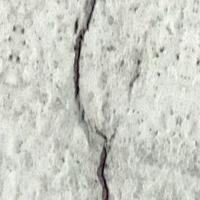crack: (60, 2, 123, 199)
